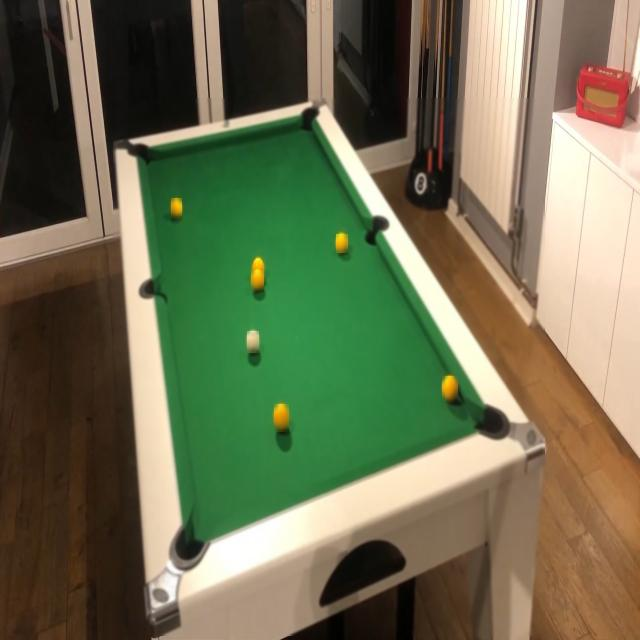Ball: (442, 376, 458, 403), (274, 404, 289, 432), (251, 270, 264, 292), (247, 331, 259, 353), (171, 198, 182, 219), (336, 234, 348, 253), (252, 258, 264, 275)
Billiard table: (113, 98, 545, 636)
